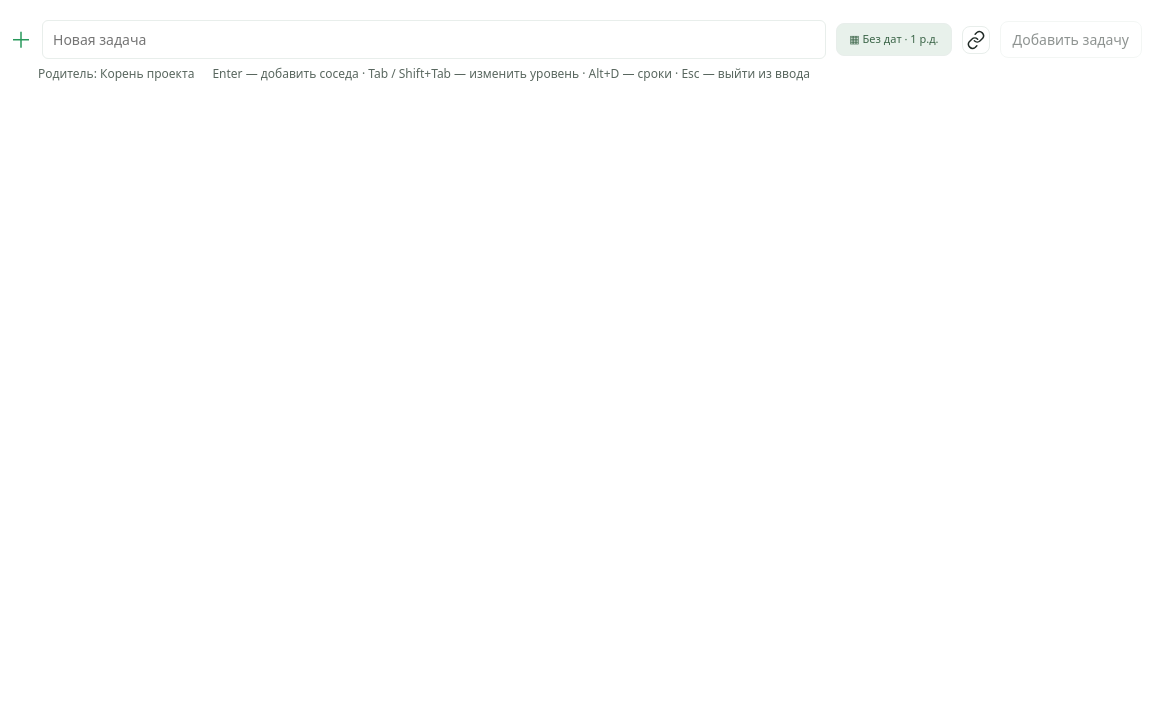
Scenario: explicit QuickSchedule reset clears an unfinished duration buffer without changing clear semantics
Click the button with aria-label "Сроки новой задачи" at x=894, y=40, box top-left (836, 23), bottom-right (952, 56)
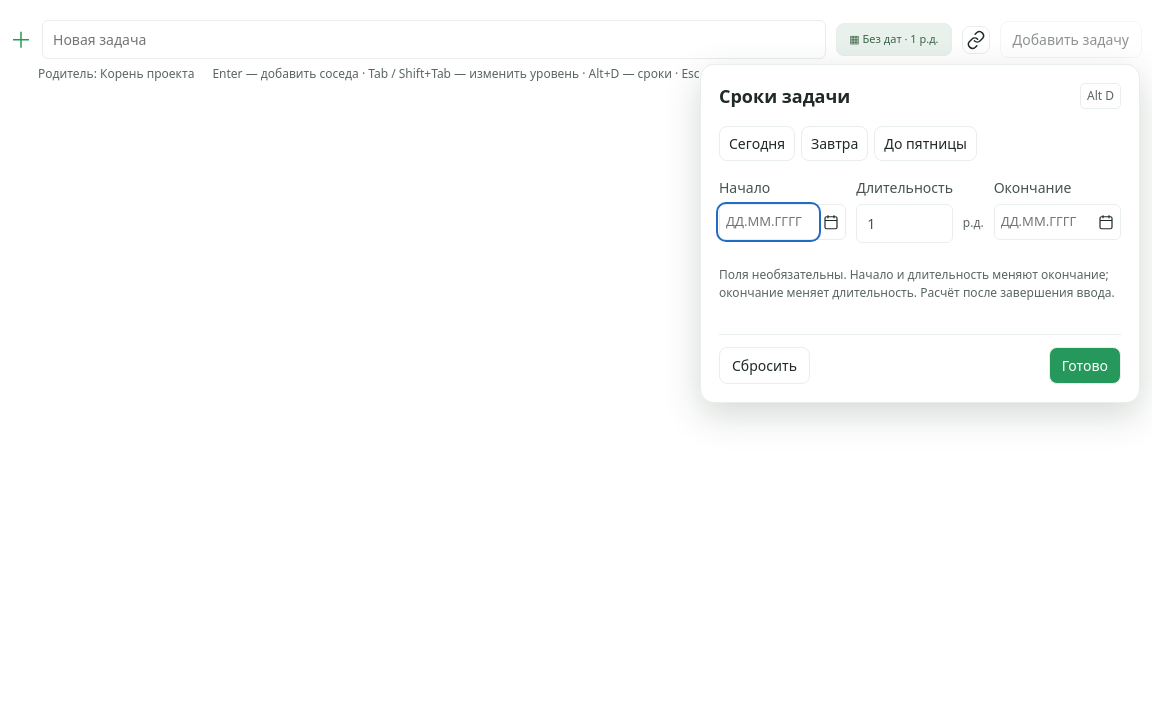
Replace the text in the field named "Длительность, рабочих дней" with "-" at x=905, y=223, box top-left (856, 204), bottom-right (953, 243)
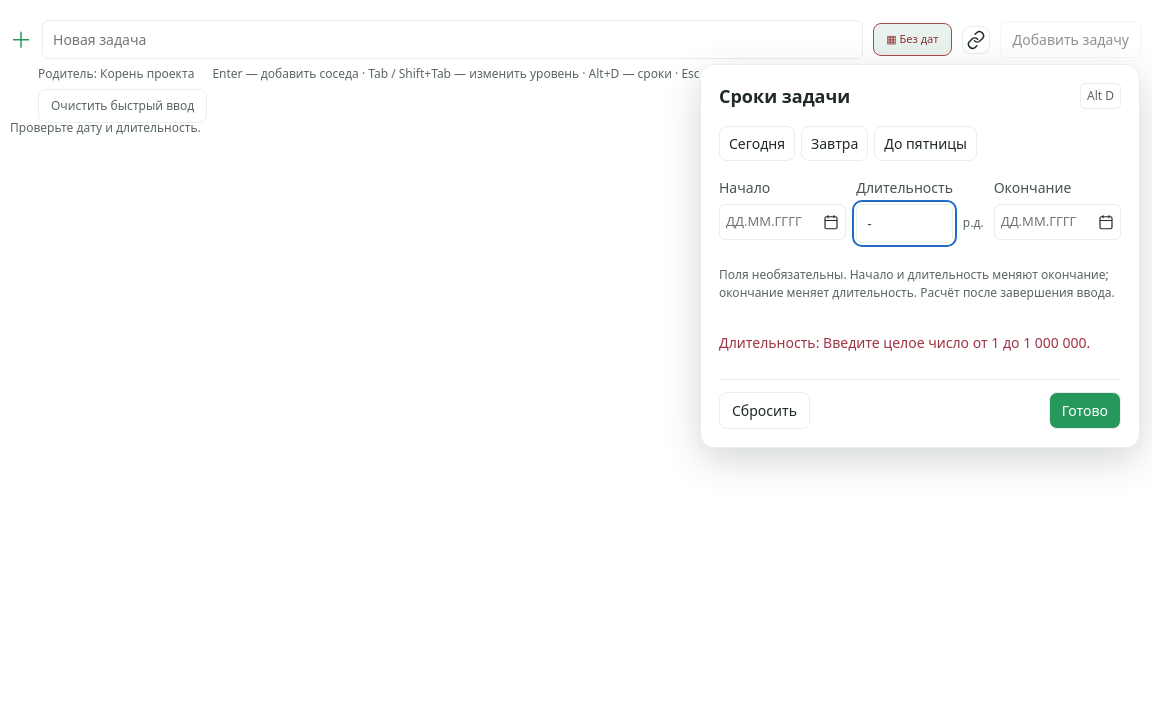
Press Tab
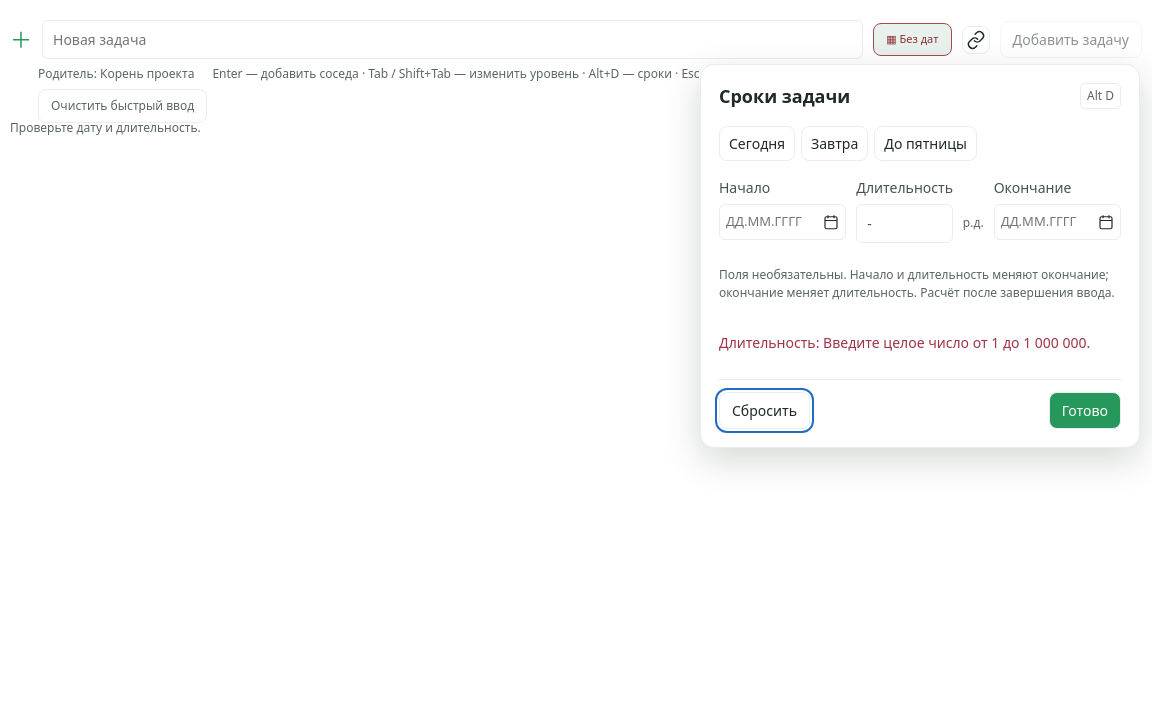
Expected: the field named "Длительность, рабочих дней" is marked as invalid, top-left (856, 204), bottom-right (953, 243)
Click the button "Сбросить" at x=764, y=410, box top-left (719, 392), bottom-right (810, 429)
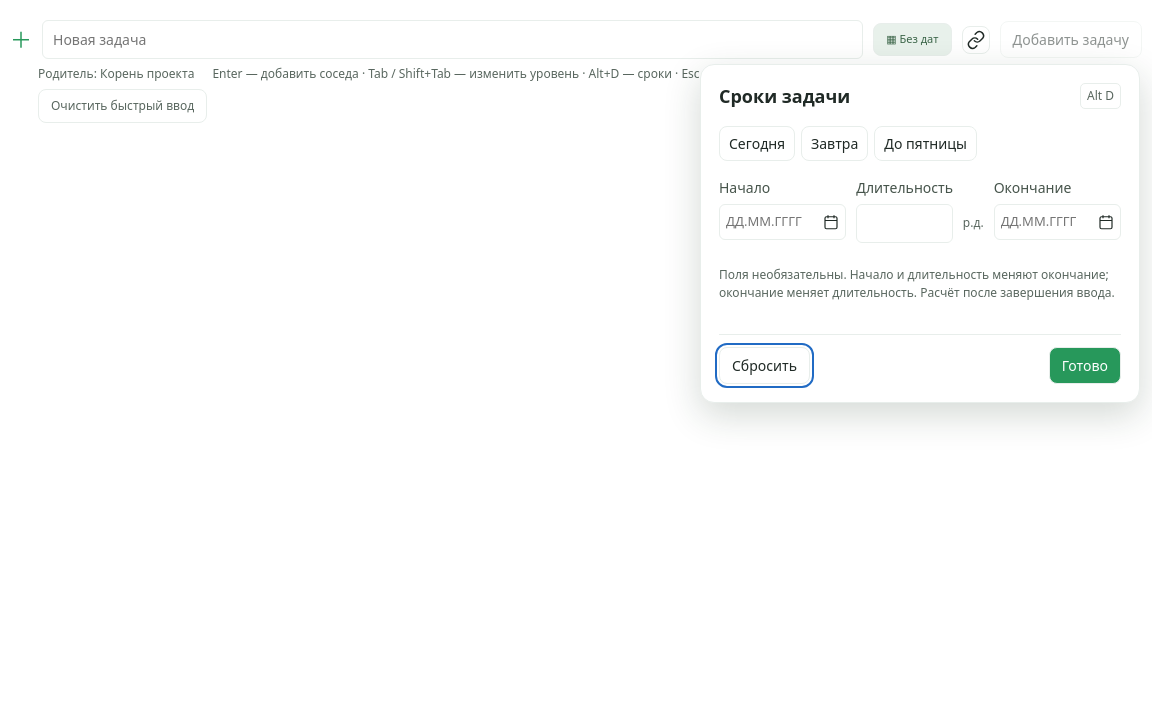
Expected: the message "Длительность: Введите целое число от 1 до 1 000 000." is gone
